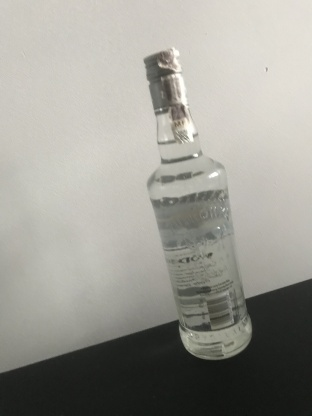nakretka: (141, 43, 190, 118)
